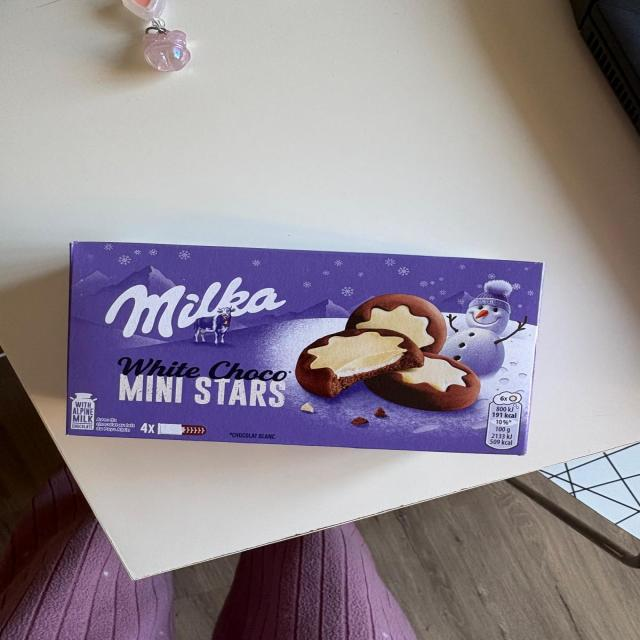good_package: (68, 242, 548, 457)
